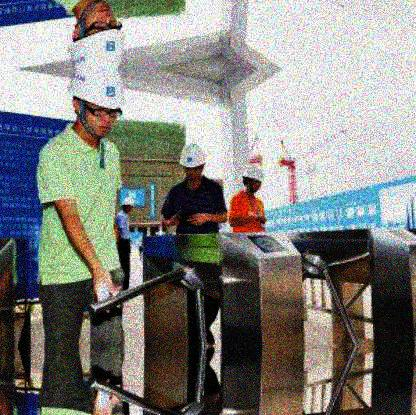helmet: (67, 68, 127, 142), (66, 1, 128, 68), (178, 144, 204, 180), (242, 164, 265, 193), (120, 195, 136, 212)
